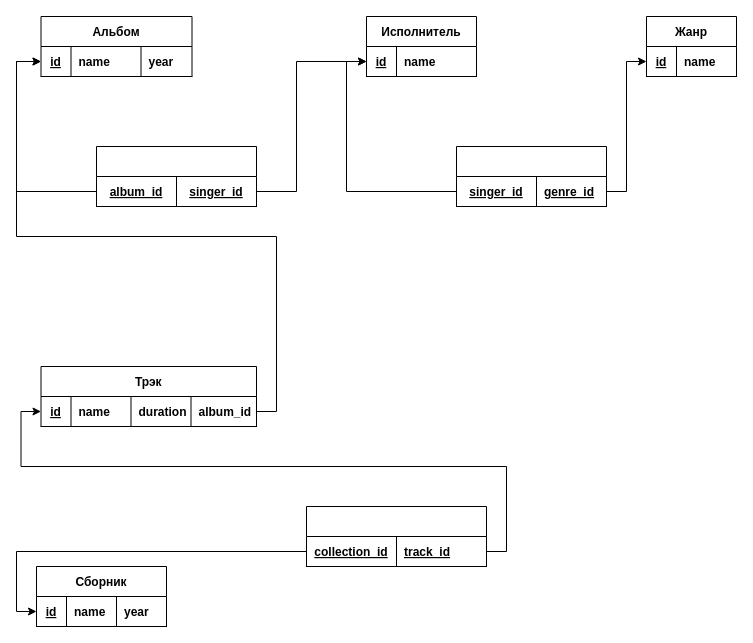
This 753x643 diagram has some shape labels left out. The box of each missing label's shape, as (x1, y1, x2, y2) in pixels:
АльбомИсполнитель: (96, 146, 256, 206)
Исполнительжанр: (456, 146, 606, 206)
Сборниктрэк: (306, 506, 486, 566)
